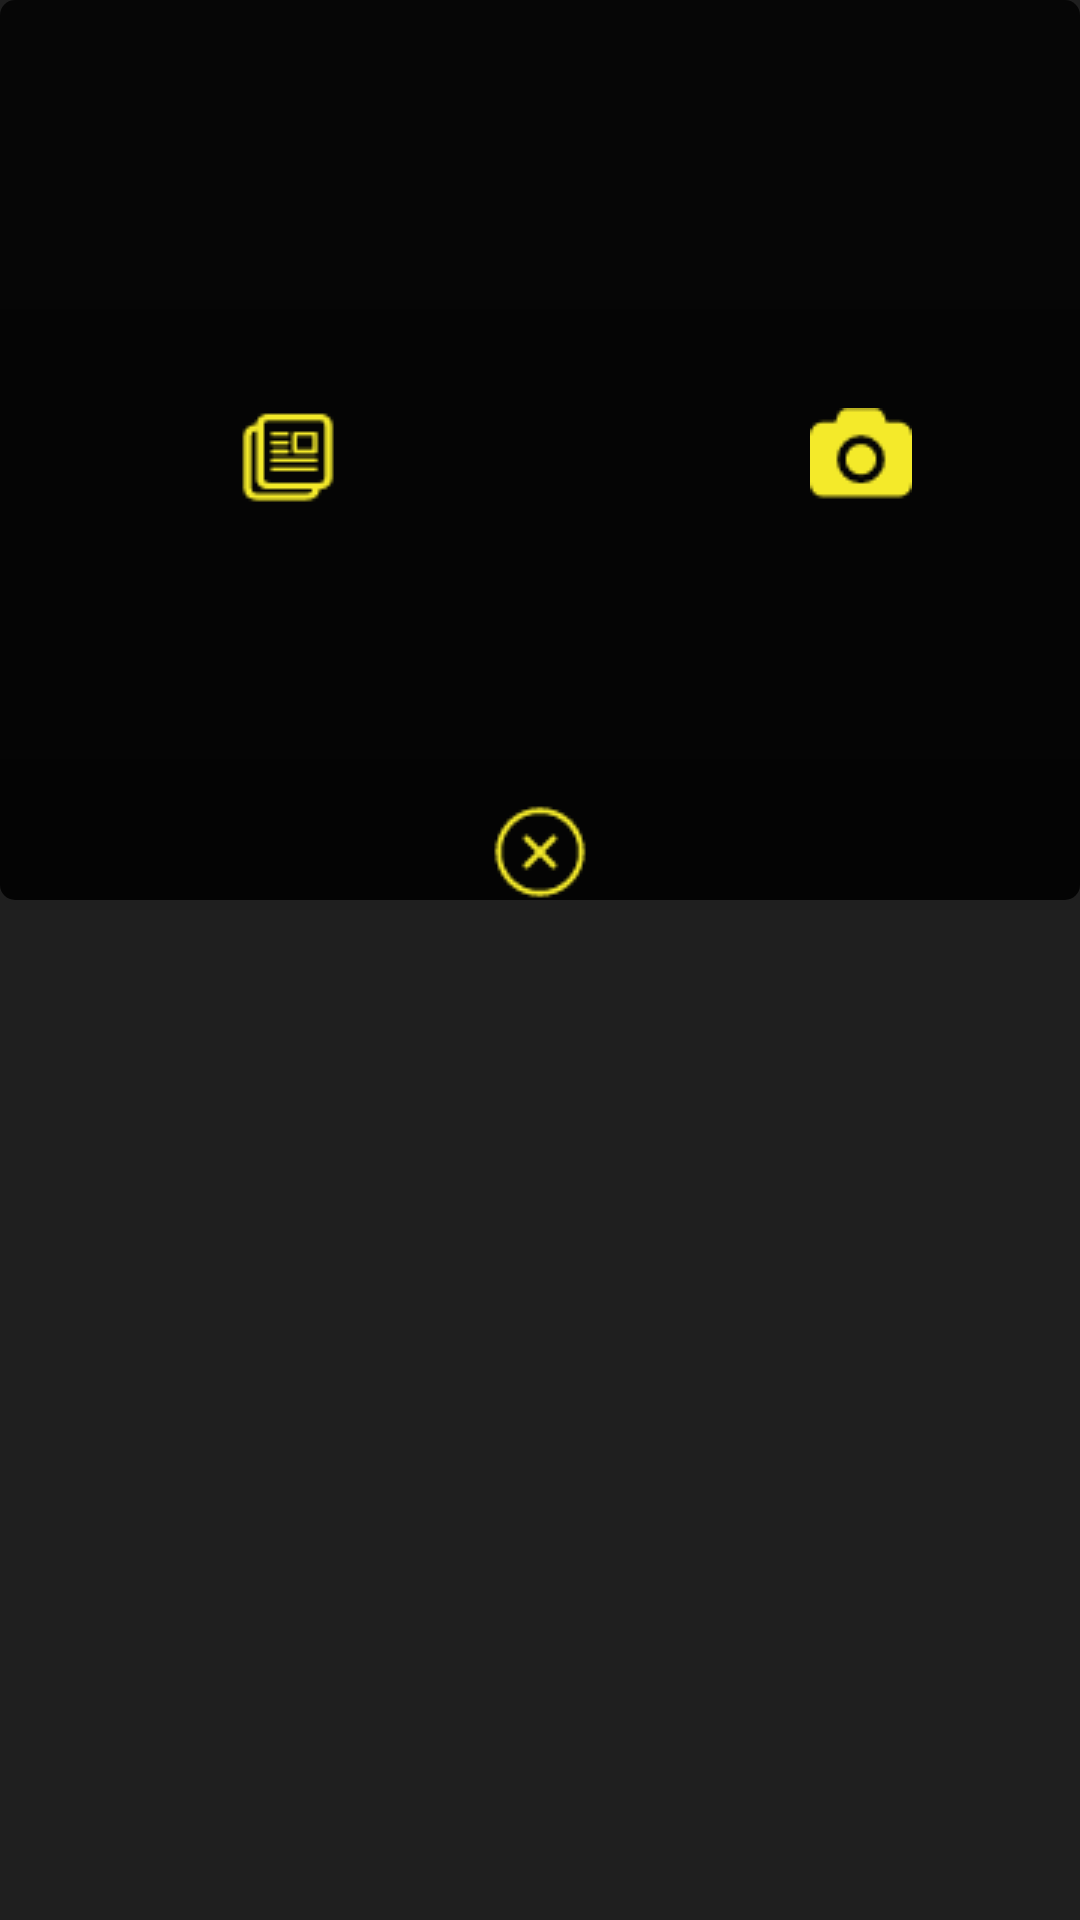

Named icons in this screenshot (1080x1920) and their centers, [x,y]:
camera: [861,453]
cancel: [540,852]
text: [288,457]
